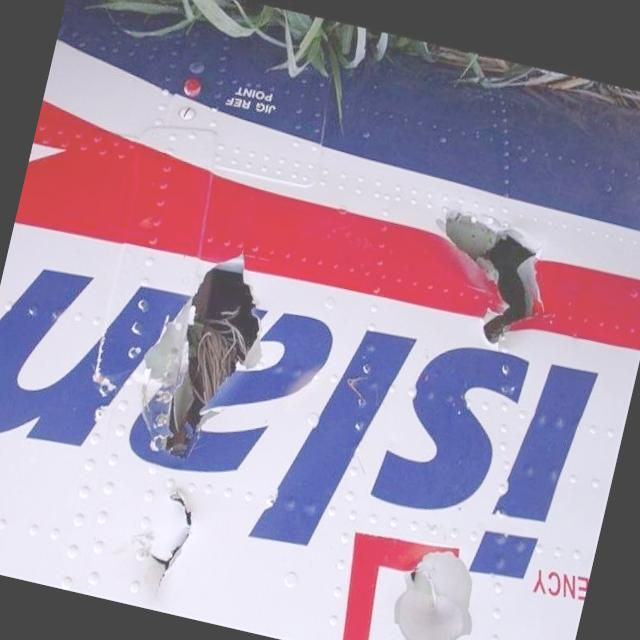crack: (125, 240, 278, 472), (413, 202, 563, 354), (134, 477, 208, 597), (388, 555, 450, 619)
